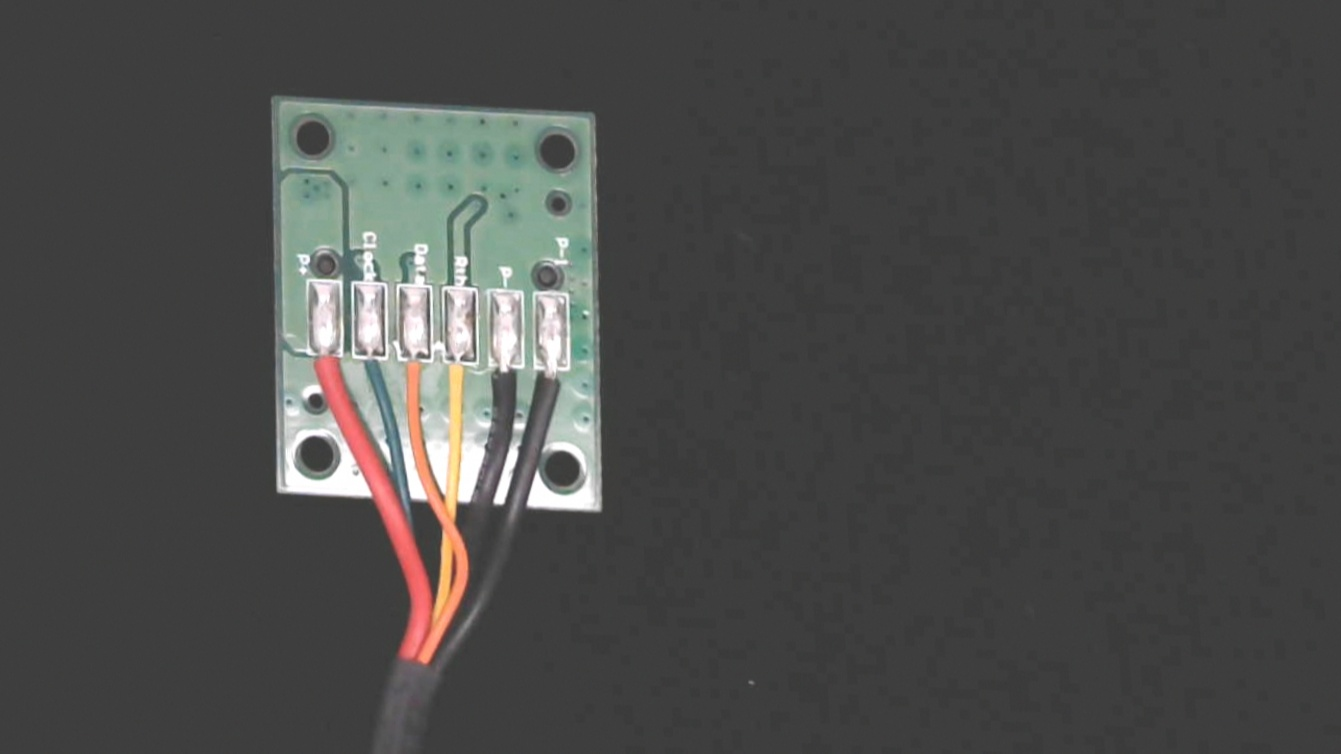Black: (484, 350, 528, 421)
Black1: (534, 348, 573, 411)
Green: (352, 344, 391, 403)
Orange: (399, 342, 435, 422)
Red: (309, 340, 346, 412)
Yellow: (437, 341, 476, 428)
